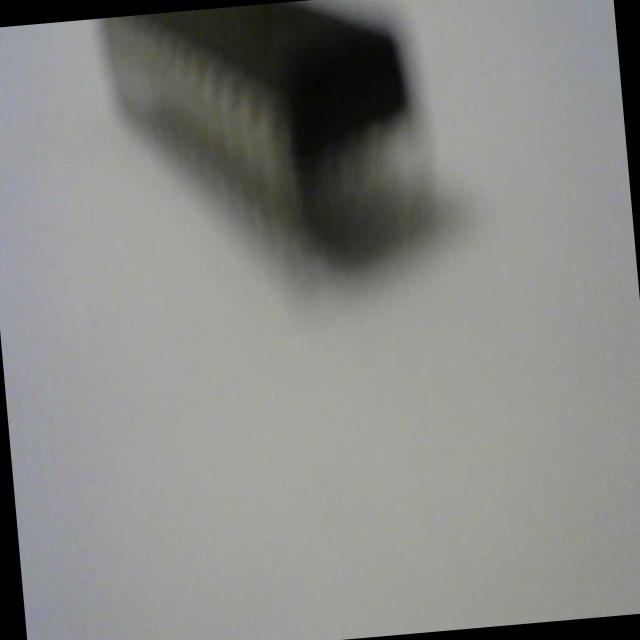atmega: (95, 0, 450, 298)
